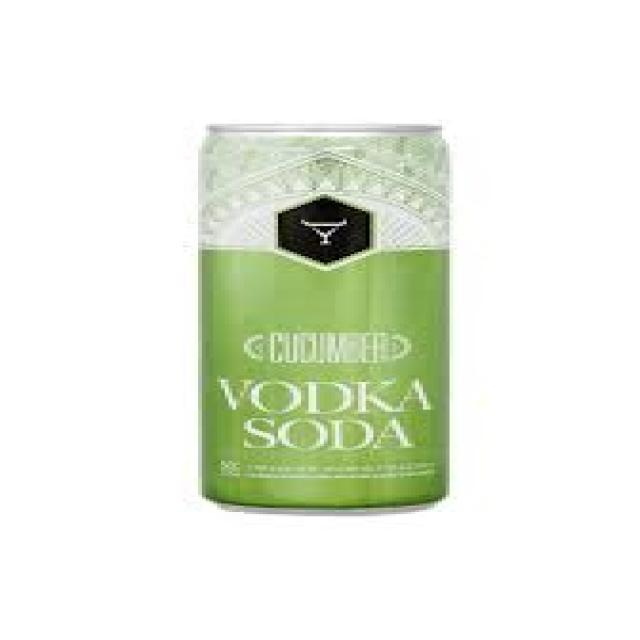Cans: (183, 111, 472, 520)
